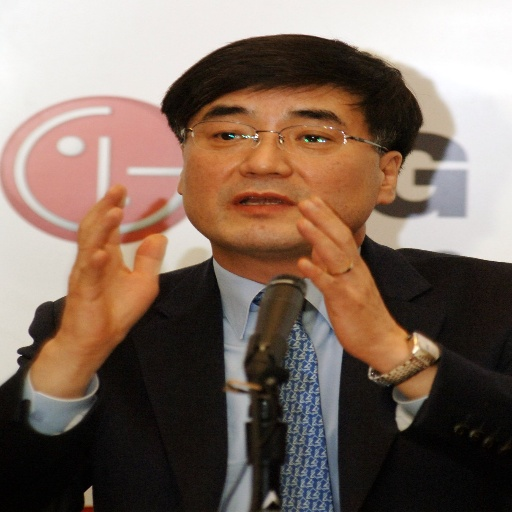hand: (12, 177, 171, 430), (294, 194, 411, 364)
